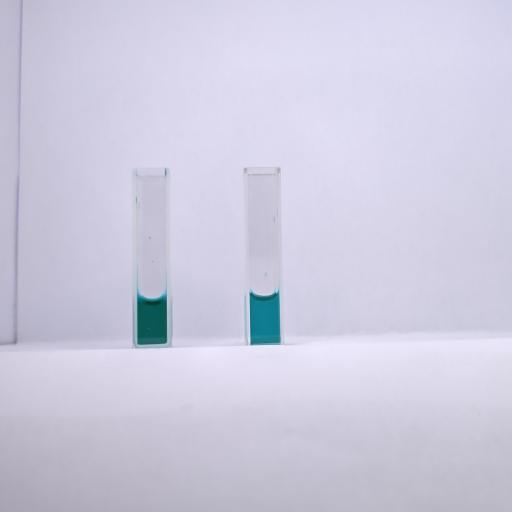cuvette: (130, 165, 174, 351), (242, 164, 286, 348)
liquid: (250, 293, 280, 344), (137, 296, 167, 344)
